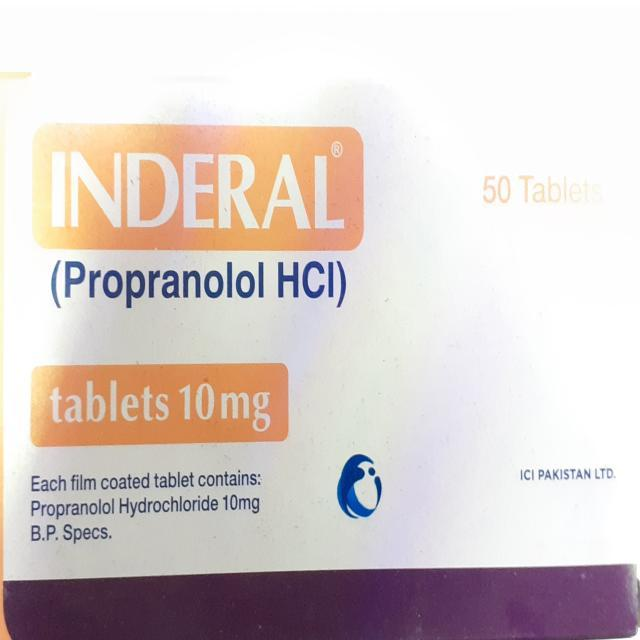drug-name: (48, 142, 347, 235)
